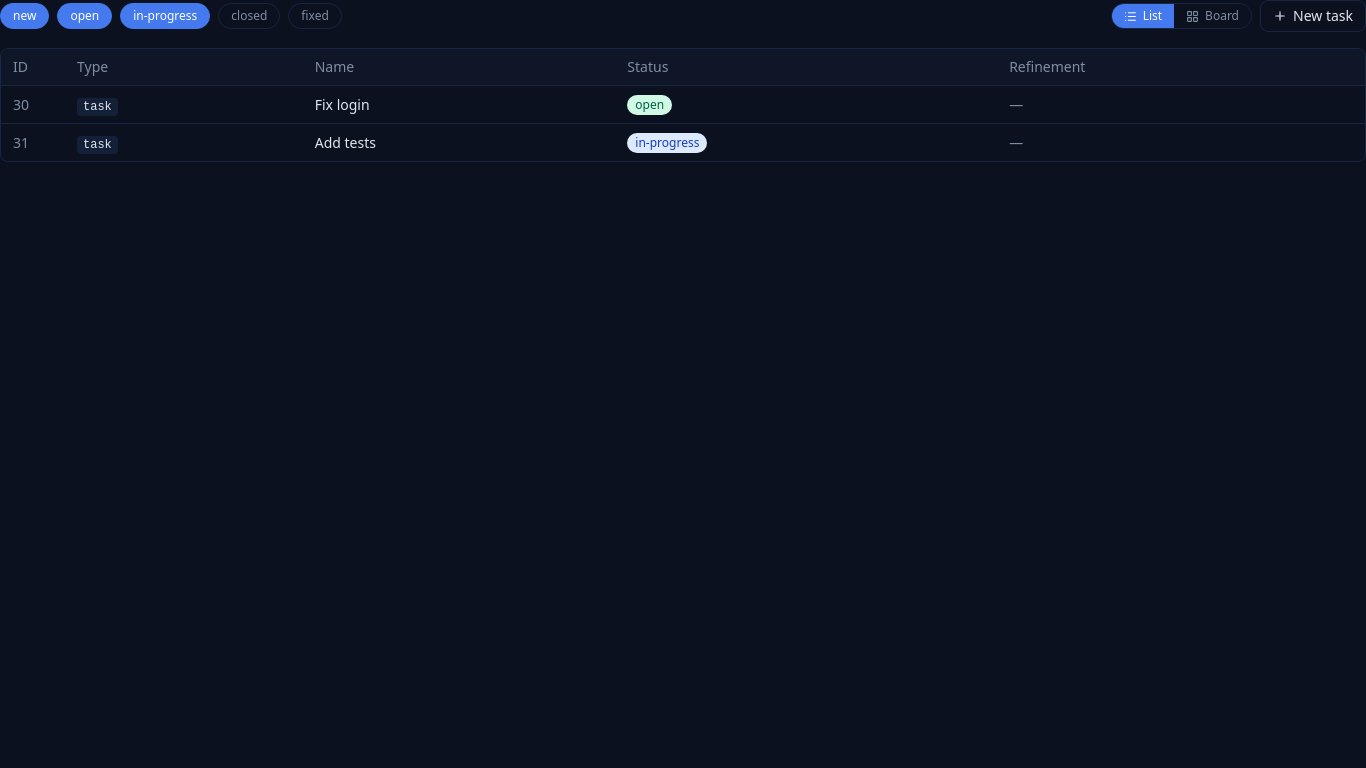
Test: Test 8 — Missing Tasks group surfaces blocking message › negative: with a Tasks group present, the form renders and no-group message is absent
Step 1. Click the button with test id "new-task-button" → {"x": 1313, "y": 16}, box [1260,0,1365,32]
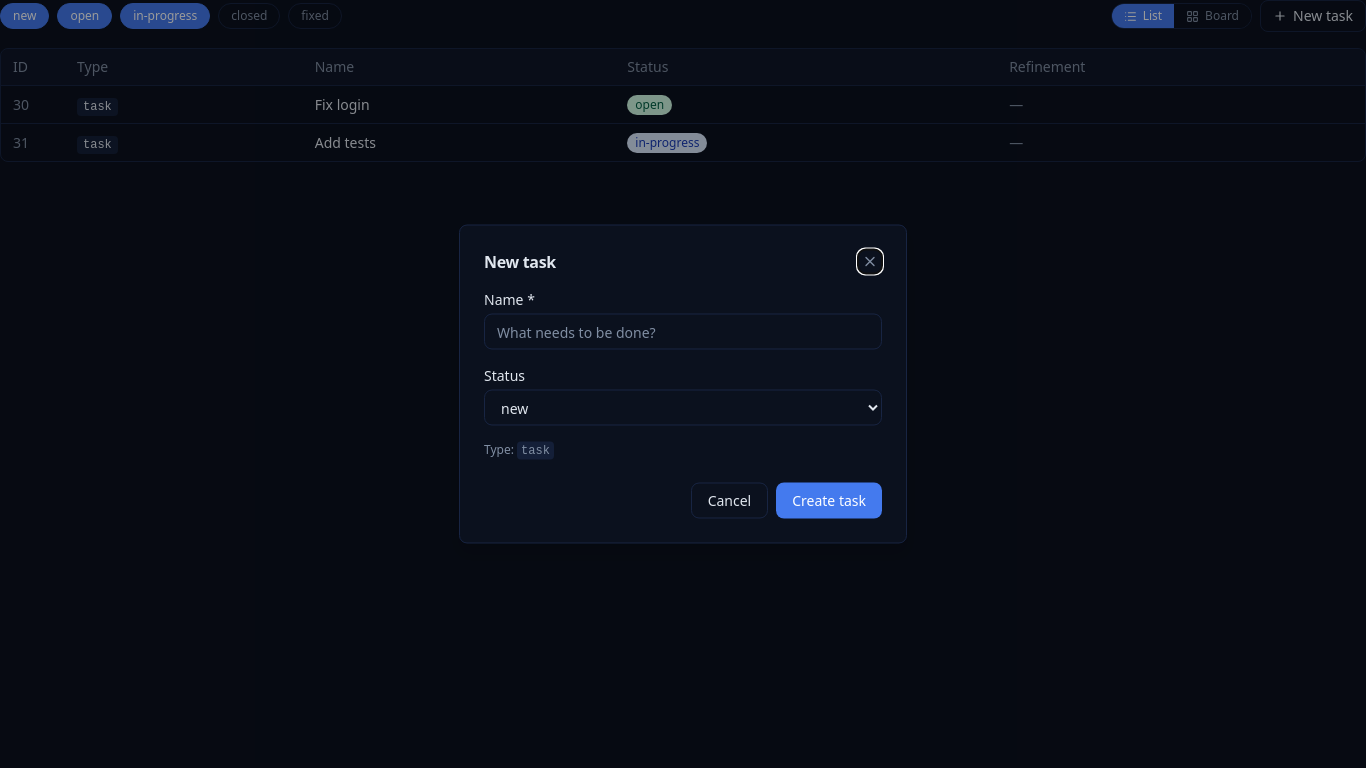
Expected: the button "Create task" is shown, [776,482,882,518]
